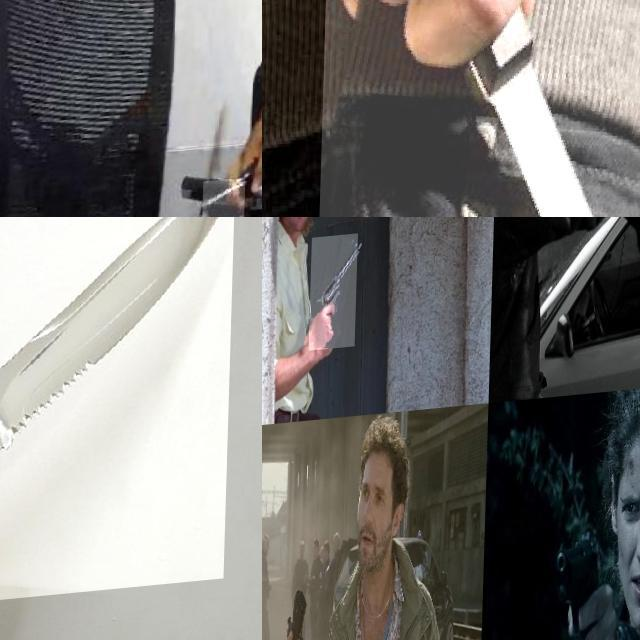-: (0, 217, 237, 619), (319, 0, 640, 217), (206, 184, 249, 217)
gun-knife-thesis - v11 Yolov5 augmented: (554, 531, 614, 640), (310, 237, 359, 354), (546, 217, 609, 253), (284, 588, 322, 640)
